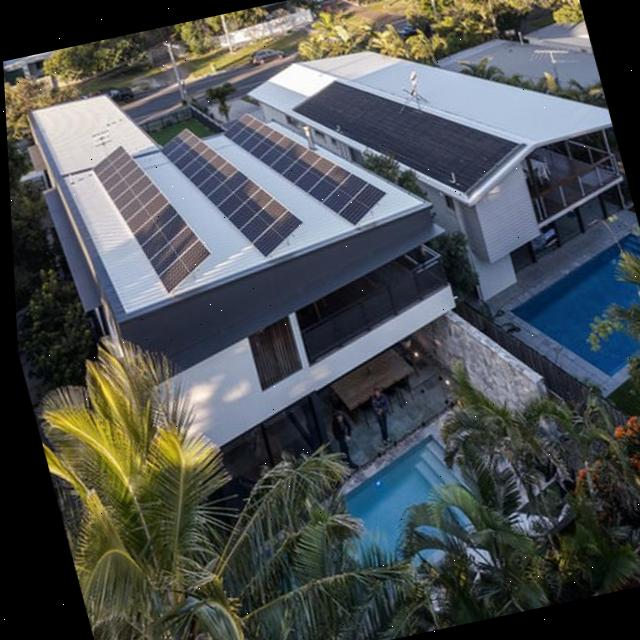building: (17, 31, 489, 478), (239, 1, 640, 318)
